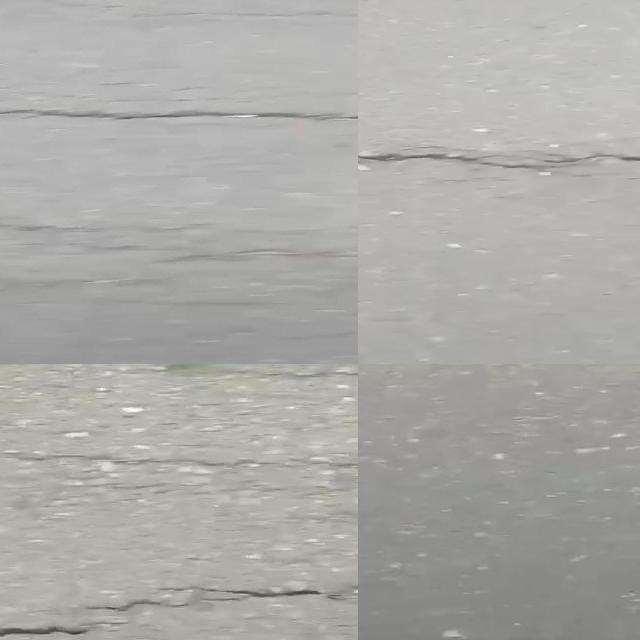Melintang: (0, 570, 358, 640), (0, 95, 358, 136), (358, 133, 640, 179)
